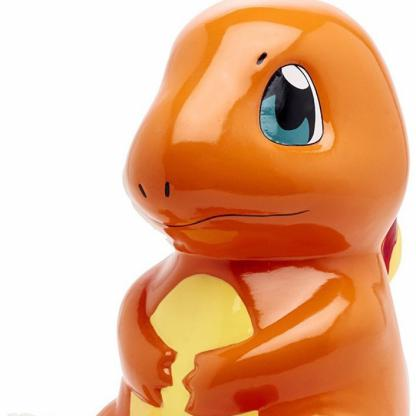Charmander: (96, 1, 416, 416)
